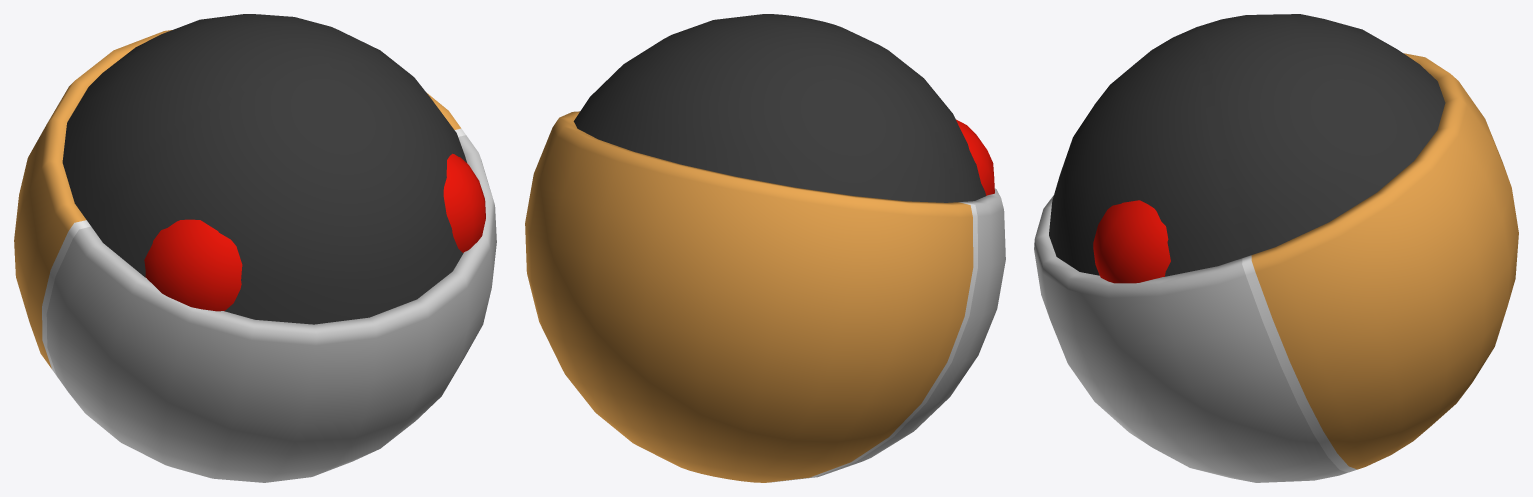
File: Player.fbx
3 views of the same model, side by side, from view 1: azimuth 30°, elevation 25°; view 2: azimuth 150°, elevation 25°; view 3: azimuth 270°, elevation 25° (orthographic).
Parts seen in each view (by area): view 1: Sphere; view 2: Sphere; view 3: Sphere.
Boxes of the visible parts, x1,y1,x2,y2 form: Sphere: (14,14,496,482); Sphere: (525,14,1005,482); Sphere: (1034,14,1518,482).
Bounding box in the file's own units: 76.92 × 75.63 × 78.08.
